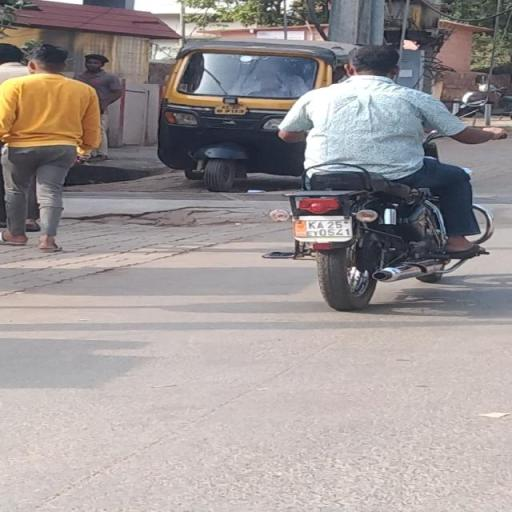bike: (266, 41, 508, 318)
numberplate: (294, 216, 350, 241)
withouthelmet: (348, 46, 400, 76)
